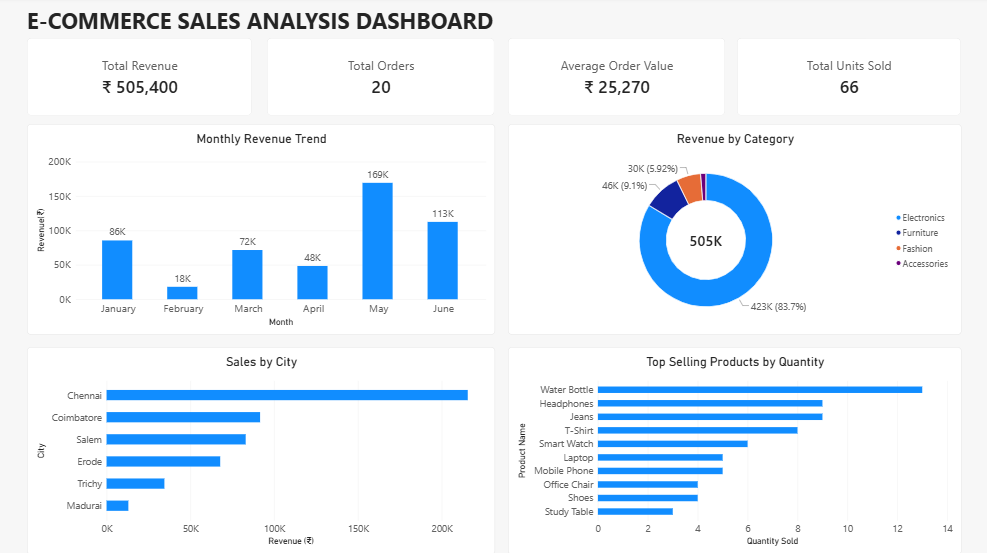

This screenshot's page, from the dashboard's own definition file:
{"tool":"powerbi","page":{"name":"Page 1","canvas":[1920,1080],"ordinal":0},"visuals":[{"type":"cardVisual","fields":{"Data":["order_items.Total Orders"]},"box":[520.9,78.7,440.1,150.9],"z":0},{"type":"cardVisual","fields":{"Data":["order_items.Total Units Sold"]},"box":[1430.8,78.7,433.7,150.9],"z":1000},{"type":"clusteredColumnChart","title":"Monthly Revenue Trend","fields":{"Category":["order_items.Order_Date.Variation.Date Hierarchy.Month"],"Y":["Sum(order_items.Line_Total)"]},"box":[55.3,246.6,905.7,408.2],"z":2000},{"type":"donutChart","title":"Revenue by Category","fields":{"Category":["order_items.Category."],"Y":["Sum(order_items.Line_Total)"]},"box":[986.5,246.6,878,408.2],"z":3000},{"type":"clusteredBarChart","title":"Sales by City","fields":{"Category":["customers.city"],"Y":["Sum(order_items.Line_Total)"]},"box":[55.3,678.2,905.7,401.8],"z":4000},{"type":"clusteredBarChart","title":"Top Selling Products by Quantity","fields":{"Category":["products.product_name"],"Y":["Sum(order_items.quantity)"]},"box":[986.5,678.2,878,401.8],"z":5000},{"type":"textbox","box":[56.1,15.5,1623.9,63.9],"z":6000},{"type":"cardVisual","fields":{"Data":["order_items.Total Revenue"]},"box":[55.3,78.7,435.8,150.9],"z":7000},{"type":"cardVisual","fields":{"Data":["order_items.Average Order Value"]},"box":[986.5,78.7,420.9,150.9],"z":7001}]}

Visuals, with their boxes in screenshot pixels (x1, y1, x2, y2), scaled from the page's 1920x1080 canvas onto the 987x553 screenshot:
cardVisual - order_items.Total Orders: bbox(268, 40, 494, 118)
cardVisual - order_items.Total Units Sold: bbox(736, 40, 958, 118)
"Monthly Revenue Trend" clusteredColumnChart: bbox(28, 126, 494, 335)
"Revenue by Category" donutChart: bbox(507, 126, 958, 335)
"Sales by City" clusteredBarChart: bbox(28, 347, 494, 552)
"Top Selling Products by Quantity" clusteredBarChart: bbox(507, 347, 958, 552)
textbox: bbox(29, 8, 864, 41)
cardVisual - order_items.Total Revenue: bbox(28, 40, 252, 118)
cardVisual - order_items.Average Order Value: bbox(507, 40, 723, 118)
